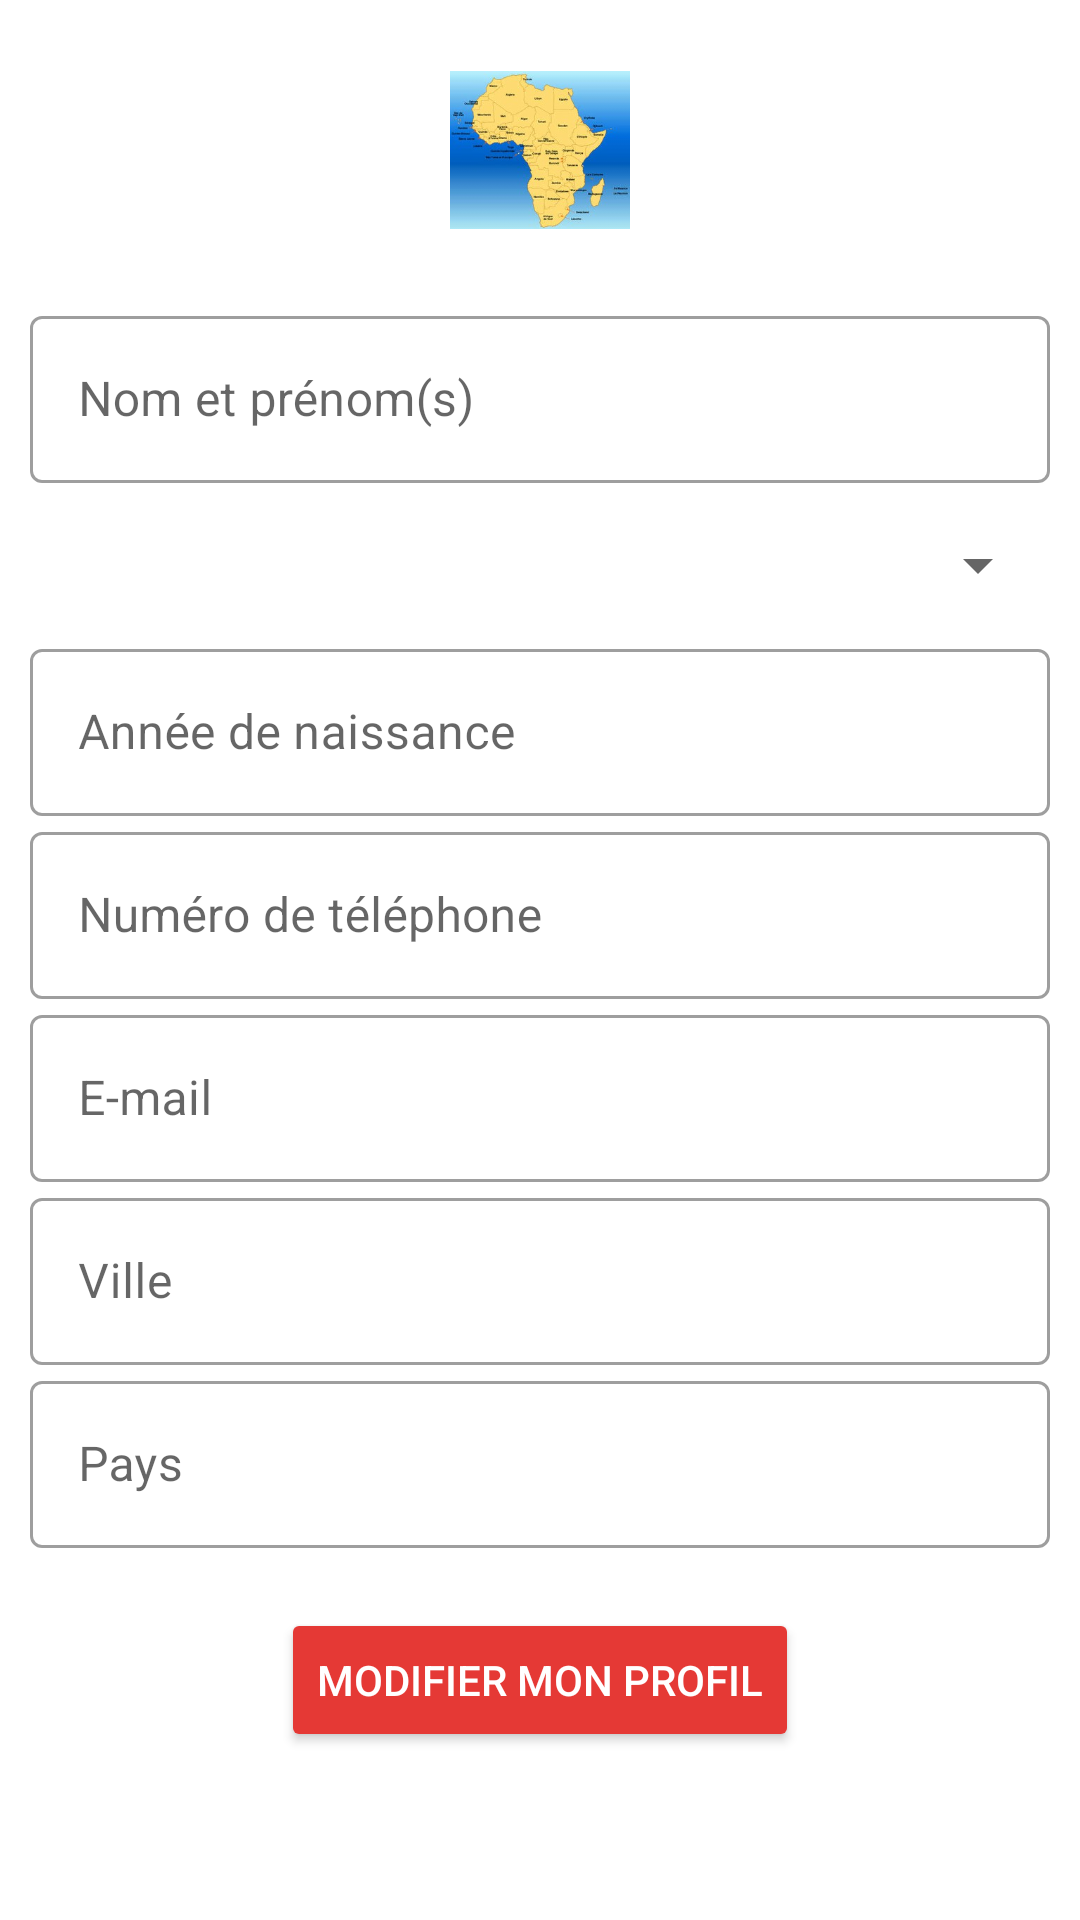

Icon bounding boxes for this 1080x1920 phone screenshot, format bbox(x1, y1, x2, y2):
carte: bbox(450, 71, 630, 229)
